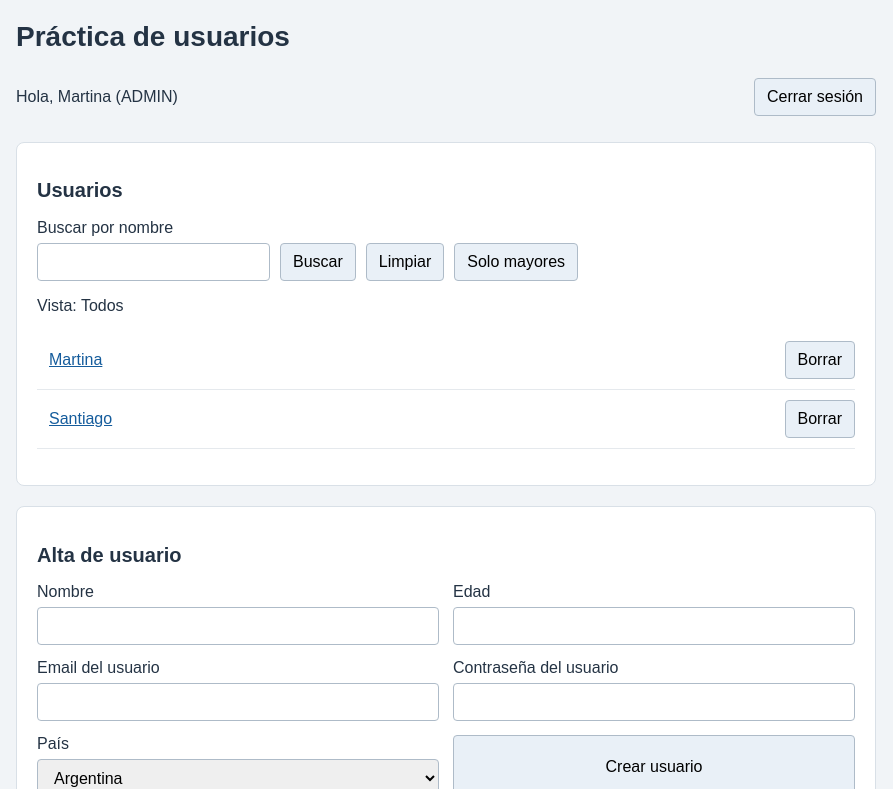
Scenario: alta con números, refresco y filtro de mayores
Expected: the text "Hola, Martina (ADMIN)" is shown, left=16, top=88, right=178, bottom=106
Expected: the button "Santiago" is shown, left=37, top=400, right=124, bottom=438
Type "Prueba" into the field labelled "Nombre" at (238, 626), box left=37, top=607, right=439, bottom=645
Type "16" into the number field labelled "Edad" at (654, 626), box left=453, top=607, right=855, bottom=645
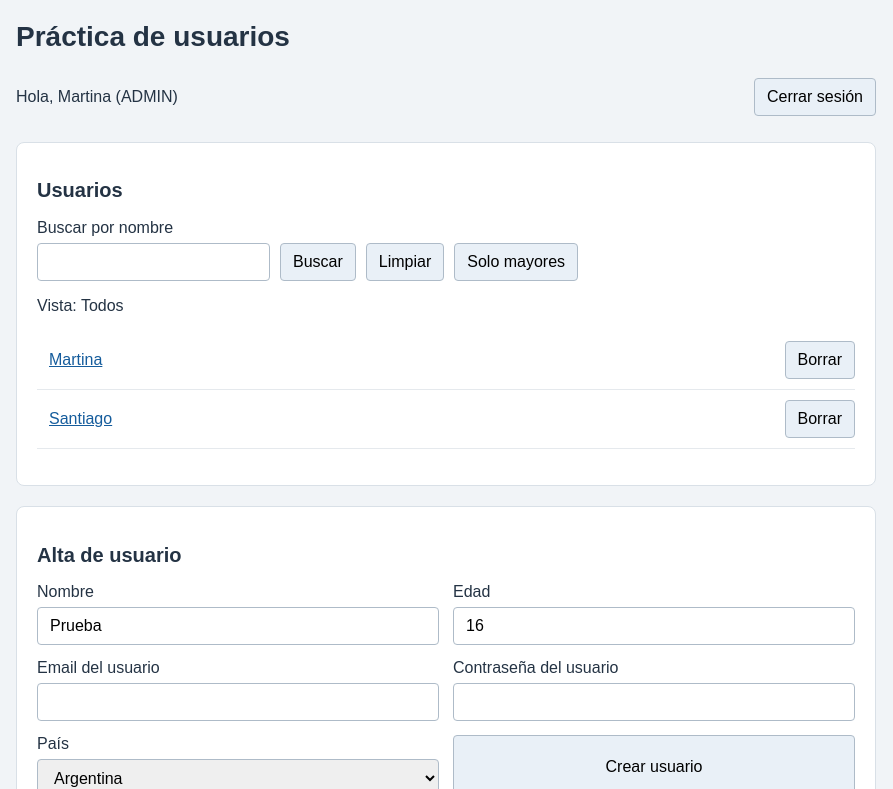
Type "prueba@example.com" into the field labelled "Email del usuario" at (238, 702), box left=37, top=683, right=439, bottom=721
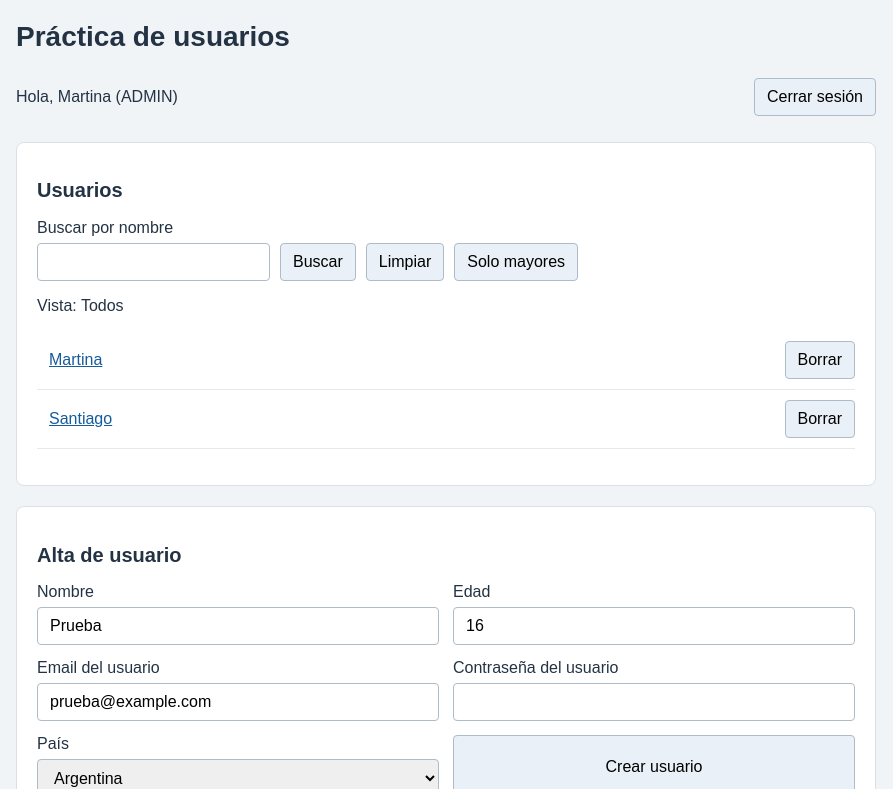
Type "abcd" into the password field labelled "Contraseña del usuario" at (654, 702), box left=453, top=683, right=855, bottom=721
(page scrolled)
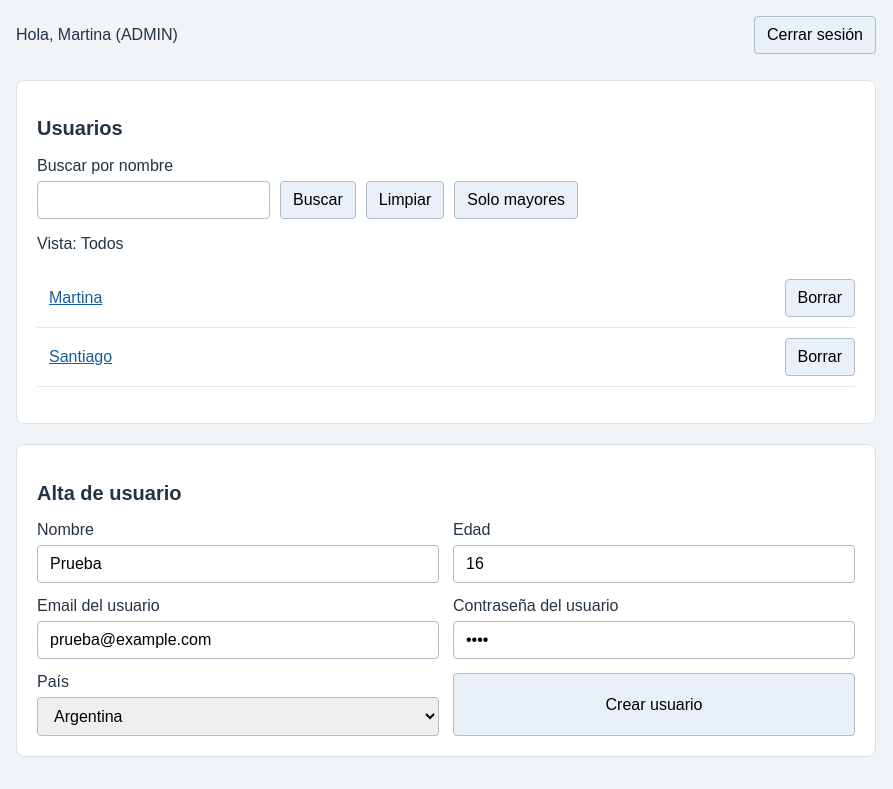
Click the button "Crear usuario" at (654, 705), box left=453, top=673, right=855, bottom=736
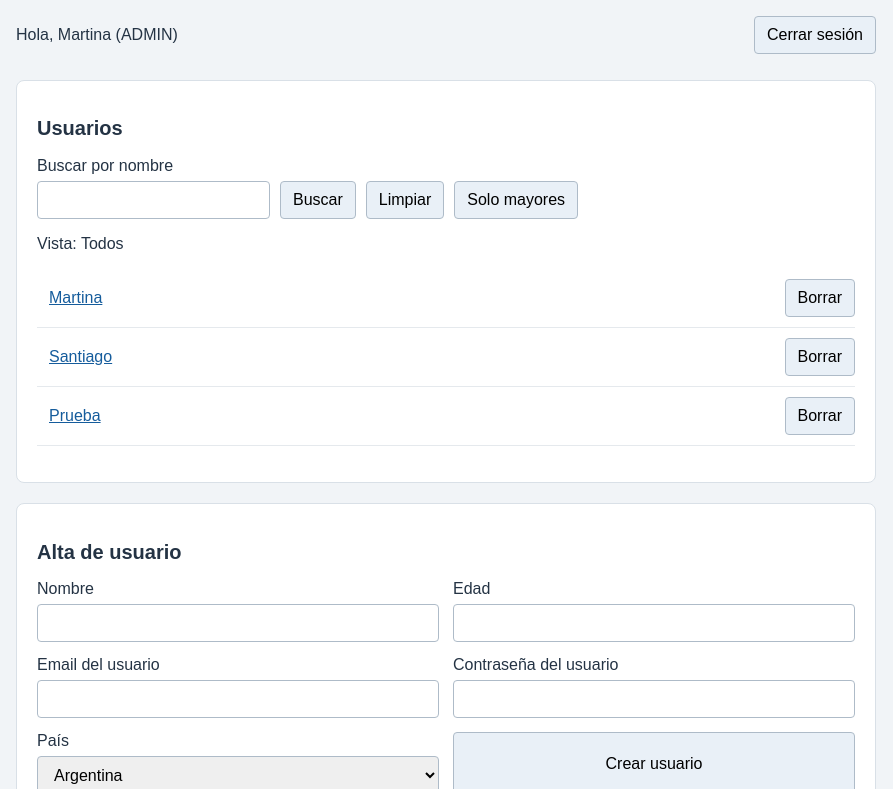
Result: the button "Prueba" is shown at left=37, top=397, right=113, bottom=435
Click the button "Solo mayores" at (516, 200), box left=454, top=181, right=578, bottom=219
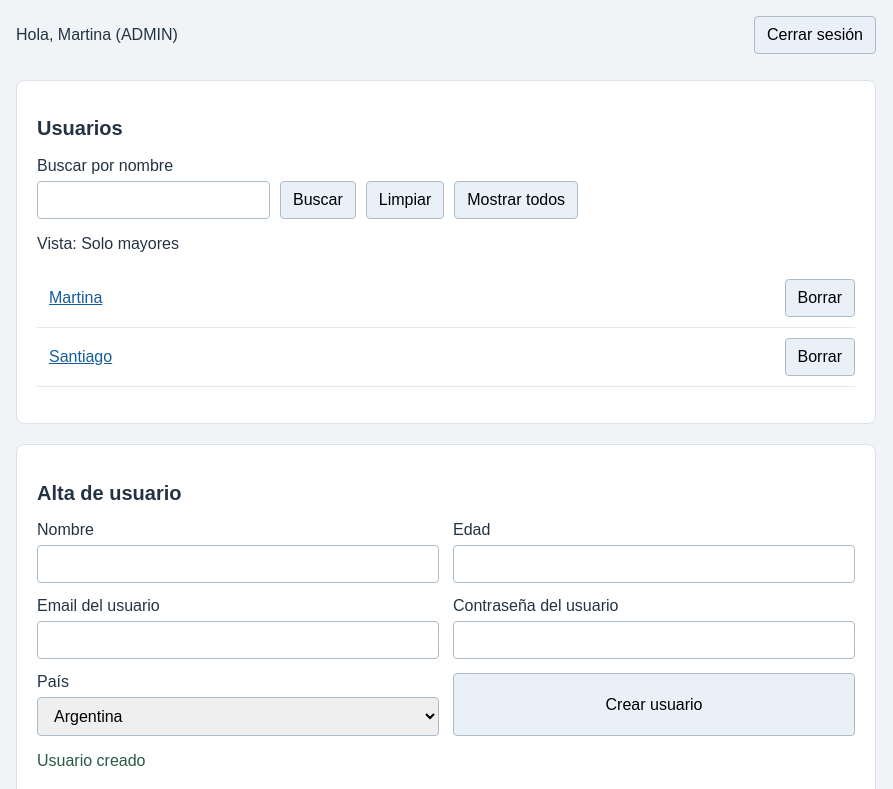
Result: the text "Vista: Solo mayores" is shown at left=37, top=235, right=179, bottom=252
Result: the button "Prueba" is gone
Click the button "Mostrar todos" at (516, 200), box left=454, top=181, right=578, bottom=219
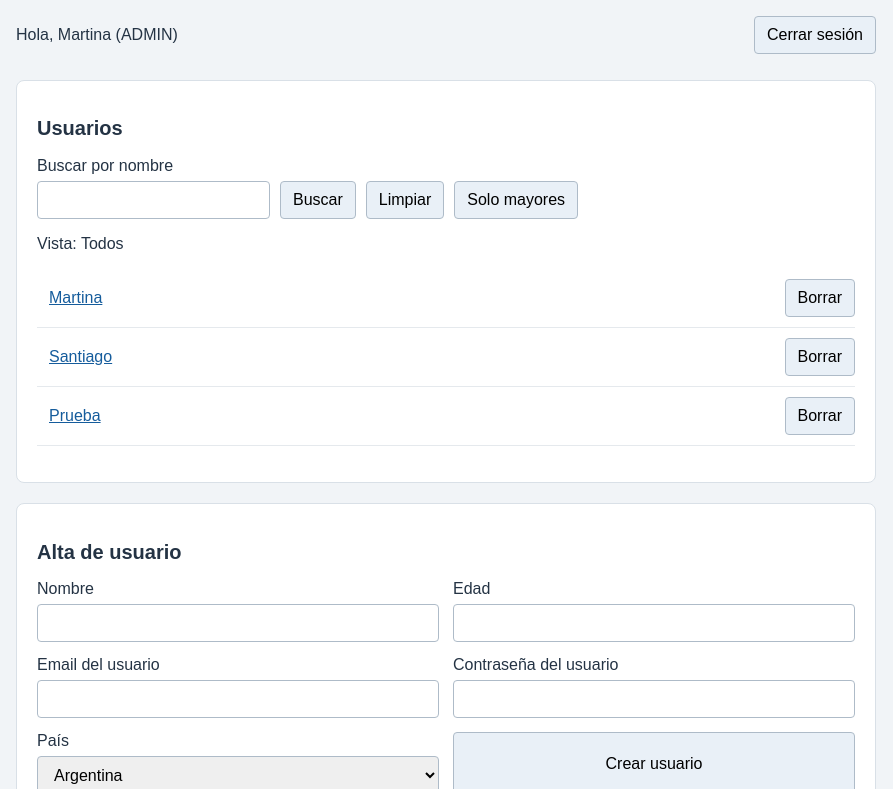
Result: the button "Prueba" is shown at left=37, top=397, right=113, bottom=435
